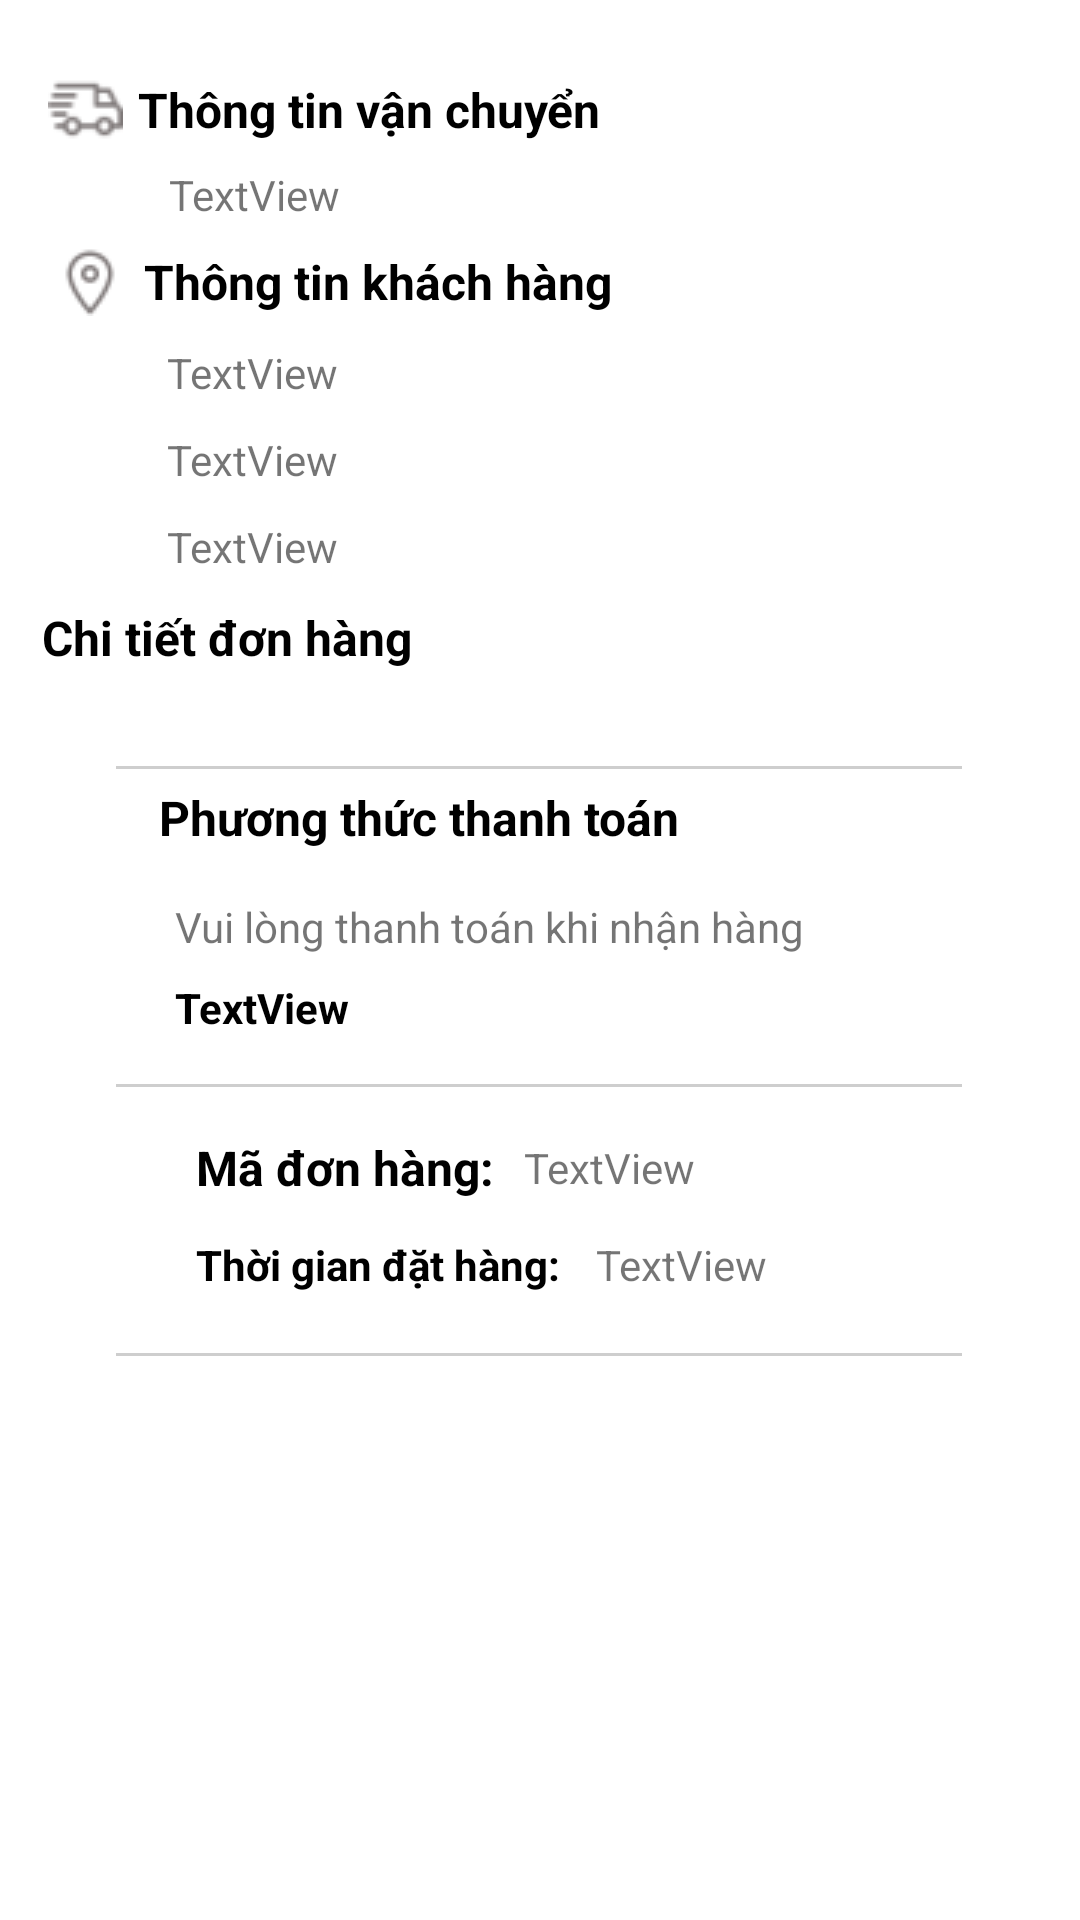

Locate icon controls on the screen. Image size 1080px×1920px, boxes as [x1,y1,x2,y2].
delivery: [48,83,123,136]
location: [66,250,114,314]
